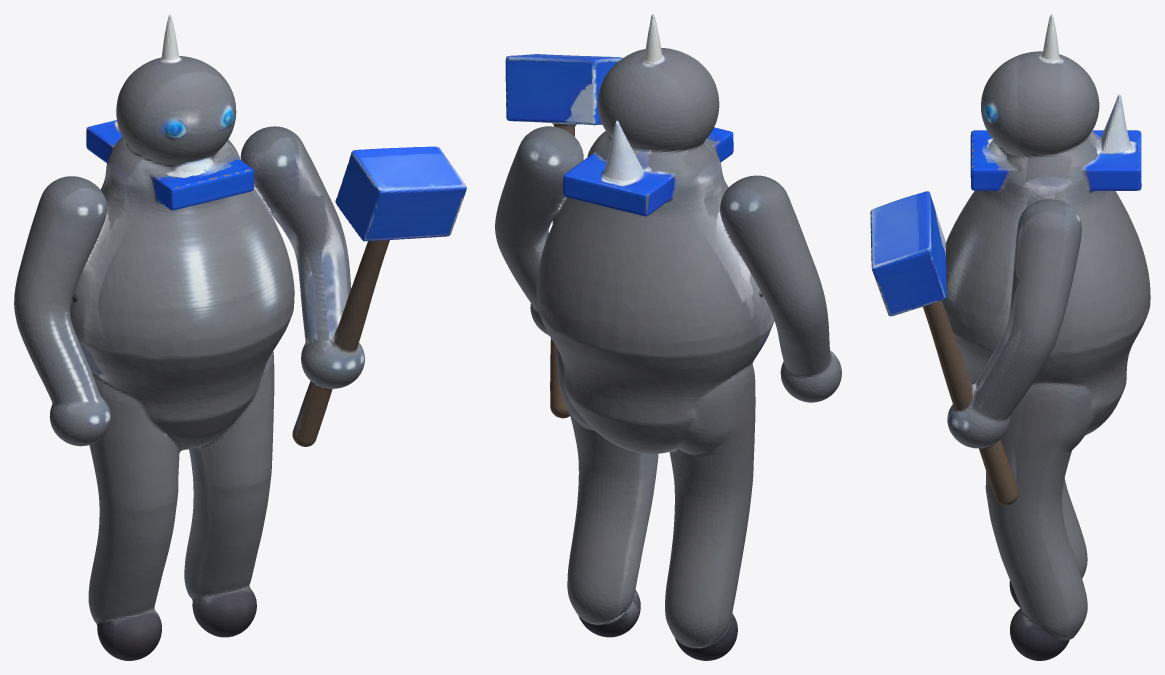
File: creature-058.glb
The picture shows the model from 3 angles, left to right: view 1: azimuth 30°, elevation 25°; view 2: azimuth 150°, elevation 25°; view 3: azimuth 270°, elevation 25°; orthographic projection. The views are drawn at different scales.
Parts seen in each view (by area): view 1: tmp2wdkq8h8.ply; view 2: tmp2wdkq8h8.ply; view 3: tmp2wdkq8h8.ply.
Part boxes in pixels (x1,y1,x2,y2): tmp2wdkq8h8.ply: (14, 14, 466, 660); tmp2wdkq8h8.ply: (495, 14, 841, 660); tmp2wdkq8h8.ply: (870, 14, 1150, 660).
Size of the model in its own units: 1.22 by 1.99 by 0.8153.
Materials: 1 (1 with a texture image).
